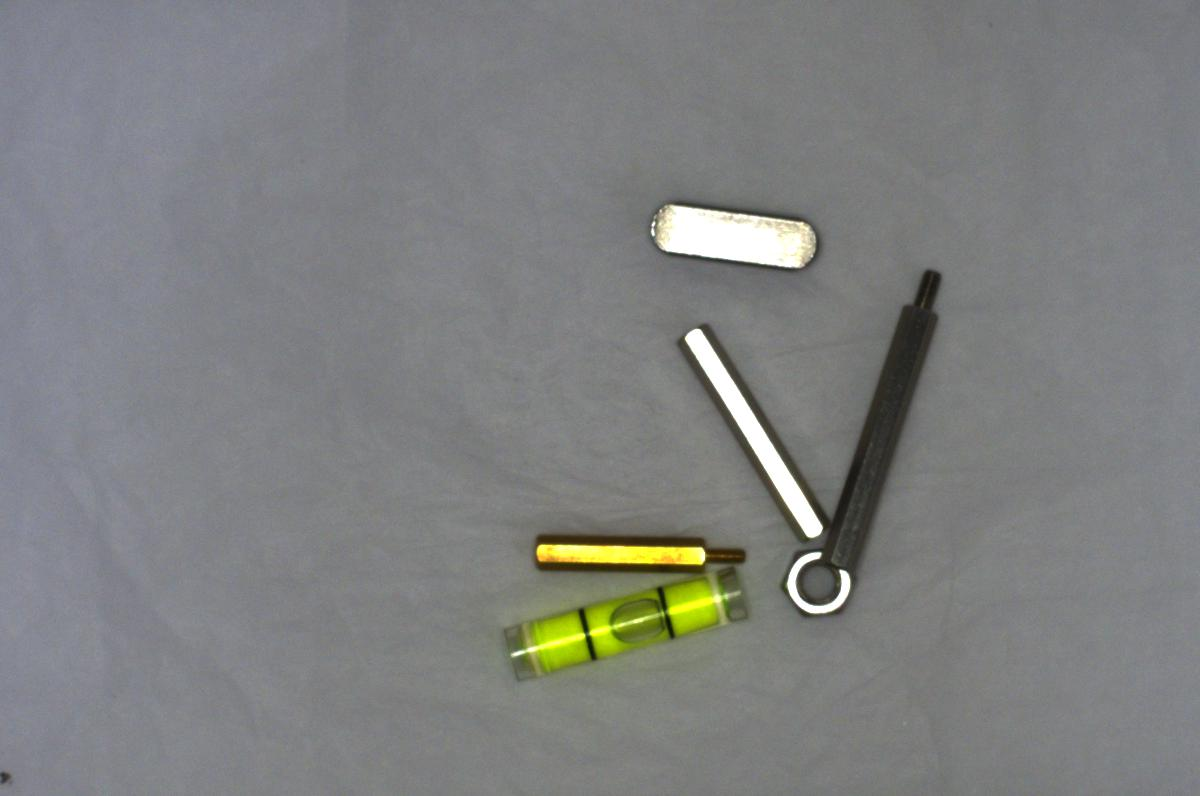Double hexagonal column: (674, 312, 830, 542)
Hexagon nut: (776, 541, 860, 630)
Hexagon pillar: (526, 522, 762, 576)
Hexagonal steel column: (830, 258, 953, 569)
Horizontal bubble: (496, 567, 757, 695)
Keybar: (639, 191, 825, 276)
